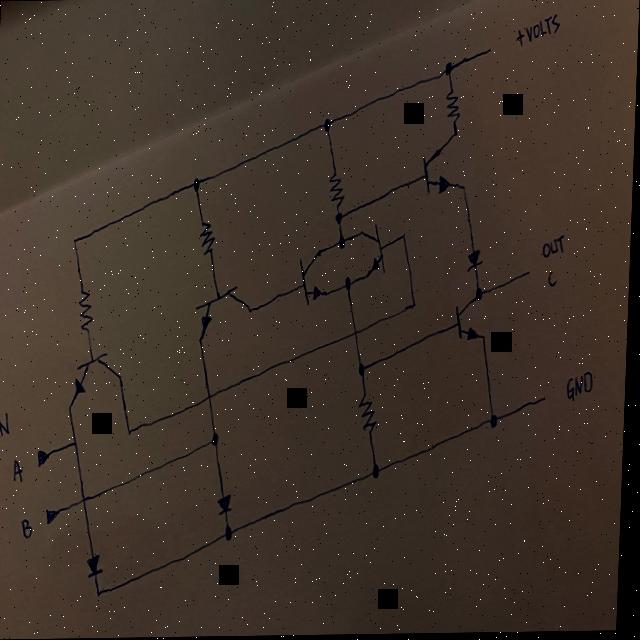diode: (216, 488, 239, 520), (86, 548, 109, 578), (466, 244, 487, 276)
junction: (316, 110, 338, 136), (206, 425, 225, 451), (439, 56, 458, 81), (188, 170, 206, 195), (354, 357, 373, 380), (348, 320, 367, 342), (370, 460, 387, 484), (222, 522, 239, 544), (406, 292, 421, 316), (124, 419, 142, 439), (68, 431, 84, 453), (204, 386, 220, 408), (341, 271, 356, 294), (79, 487, 94, 509), (488, 410, 503, 432), (68, 226, 82, 248), (398, 227, 411, 249), (473, 283, 488, 302), (338, 231, 350, 251), (333, 208, 347, 225), (96, 585, 109, 600)
resistor: (359, 391, 382, 437), (78, 284, 96, 332), (327, 165, 347, 207), (199, 216, 218, 256), (444, 88, 463, 125)
terminal: (35, 443, 59, 467), (533, 385, 554, 410), (46, 506, 70, 525), (518, 262, 536, 285), (476, 40, 495, 60)
text: (524, 14, 562, 42), (566, 371, 598, 402), (541, 230, 566, 260), (0, 409, 14, 443), (12, 455, 29, 483), (22, 515, 39, 541), (546, 267, 561, 291), (512, 27, 523, 49)
transistor: (187, 281, 255, 345), (65, 348, 132, 411), (418, 145, 462, 200), (296, 244, 331, 308), (358, 219, 391, 284), (449, 302, 483, 350)
